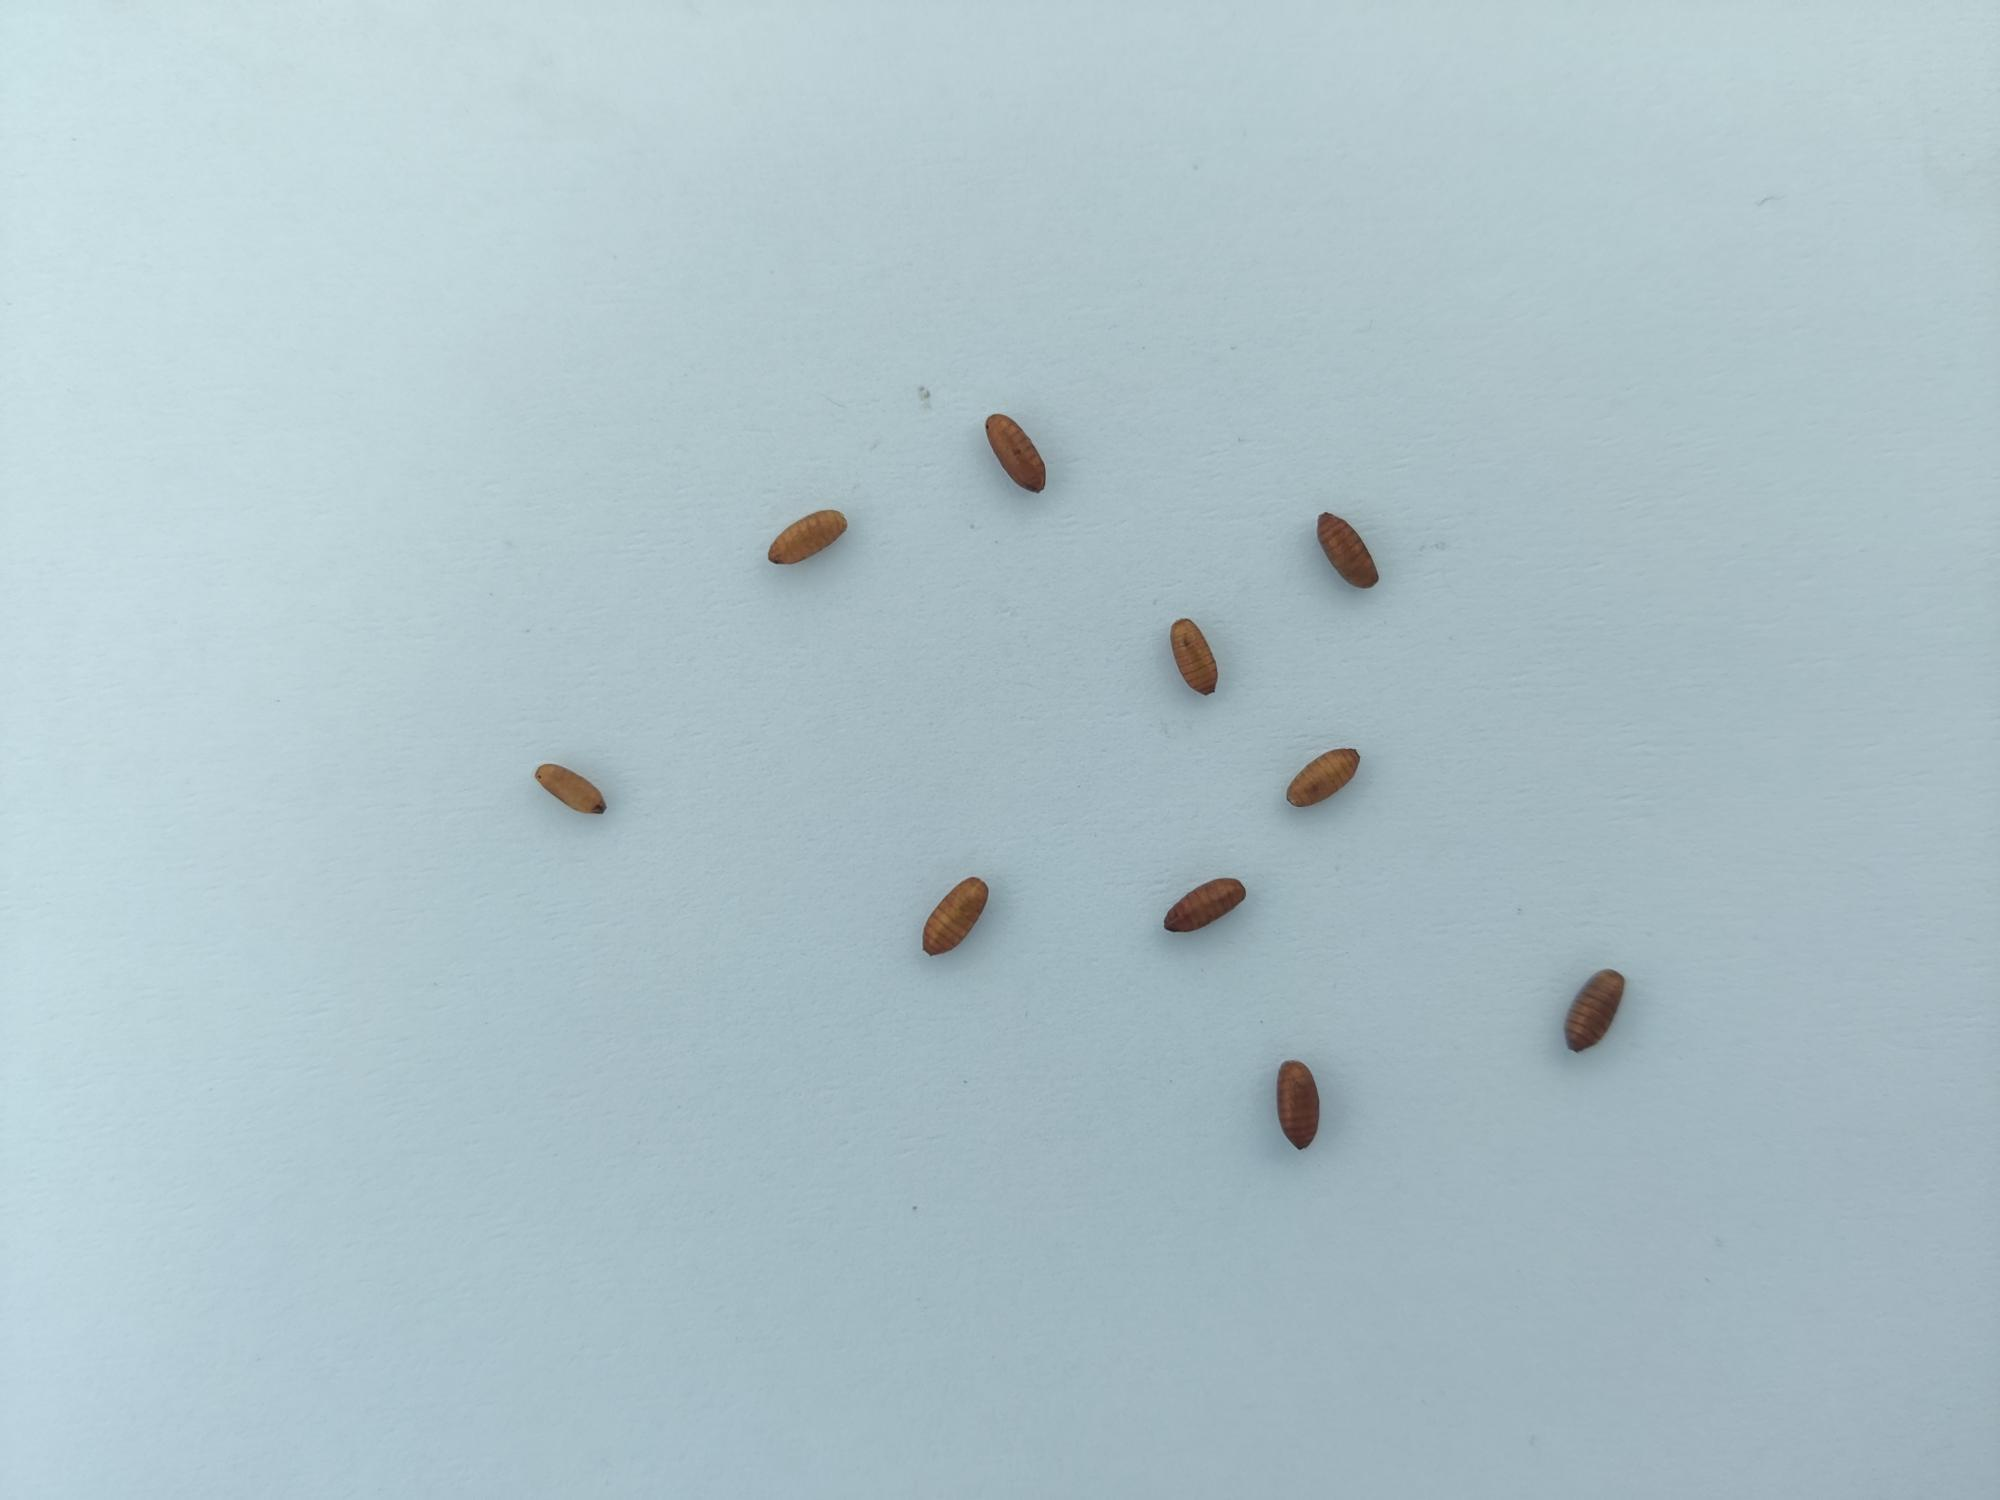pupae: (910, 870, 998, 967), (1307, 498, 1389, 597), (1556, 960, 1633, 1064), (976, 408, 1055, 504), (1283, 734, 1376, 813), (1156, 871, 1258, 942), (1265, 1053, 1331, 1160), (761, 499, 852, 577), (524, 759, 619, 829), (1162, 607, 1227, 707)
